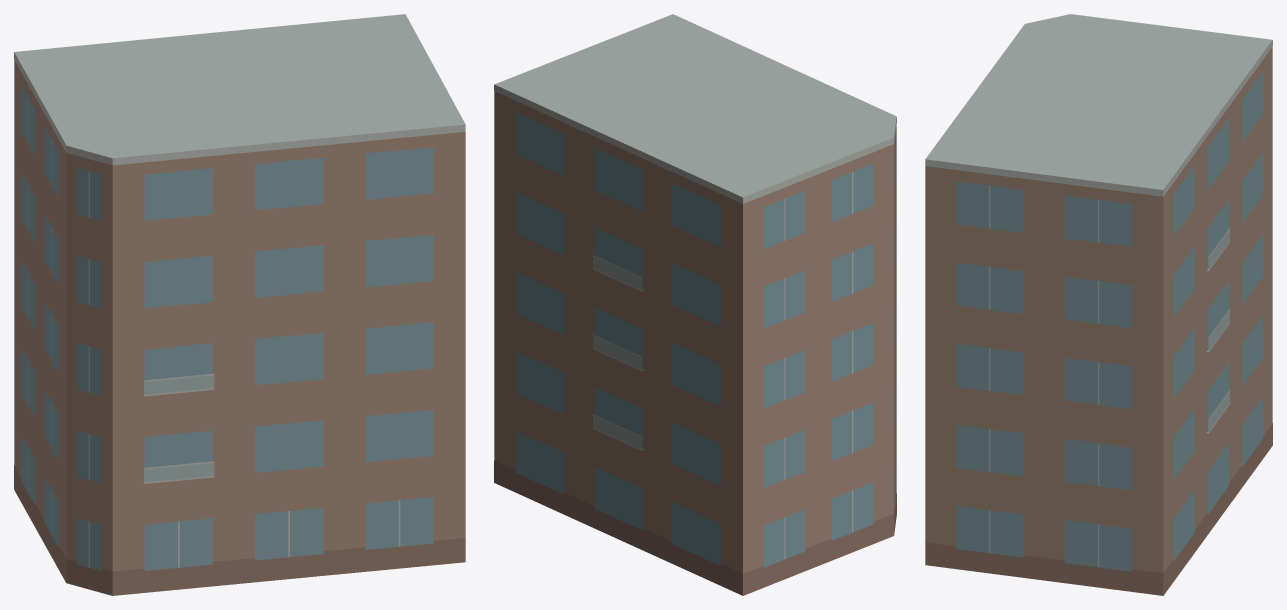
The model's file is survey-upis-32879194.glb.
3 views of the same model, side by side, from view 1: azimuth 30°, elevation 25°; view 2: azimuth 150°, elevation 25°; view 3: azimuth 270°, elevation 25° (orthographic). The views are drawn at different scales.
Visible parts, largest first — view 1: survey-upis-32879194.tmp; view 2: survey-upis-32879194.tmp; view 3: survey-upis-32879194.tmp.
Boxes of the visible parts, left/top/right/bottom form: survey-upis-32879194.tmp: left=14, top=14, right=465, bottom=595; survey-upis-32879194.tmp: left=494, top=14, right=896, bottom=595; survey-upis-32879194.tmp: left=925, top=14, right=1272, bottom=595.
Size of the model in its own units: 13.88 by 14.9 by 11.58.
